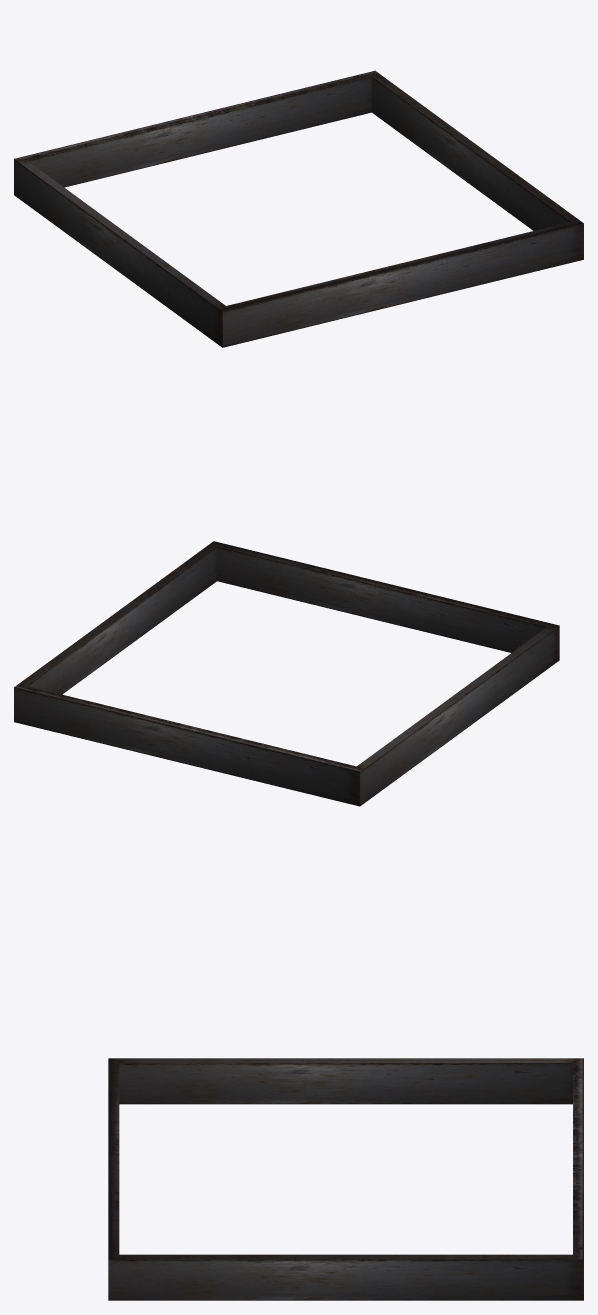
The model's file is ring.FBX.
The picture shows the model from 3 angles, top to bottom: view 1: azimuth 30°, elevation 25°; view 2: azimuth 150°, elevation 25°; view 3: azimuth 270°, elevation 25°; orthographic projection. The views are drawn at different scales.
Visible parts, largest first — view 1: Box002; view 2: Box002; view 3: Box002.
Boxes of the visible parts, x1,y1,x2,y2 form: Box002: (14, 70, 583, 347); Box002: (14, 541, 559, 806); Box002: (108, 1058, 583, 1300).
Size of the model in its own units: 22 by 14.42 by 26.37.
1 material, 1 textured.
